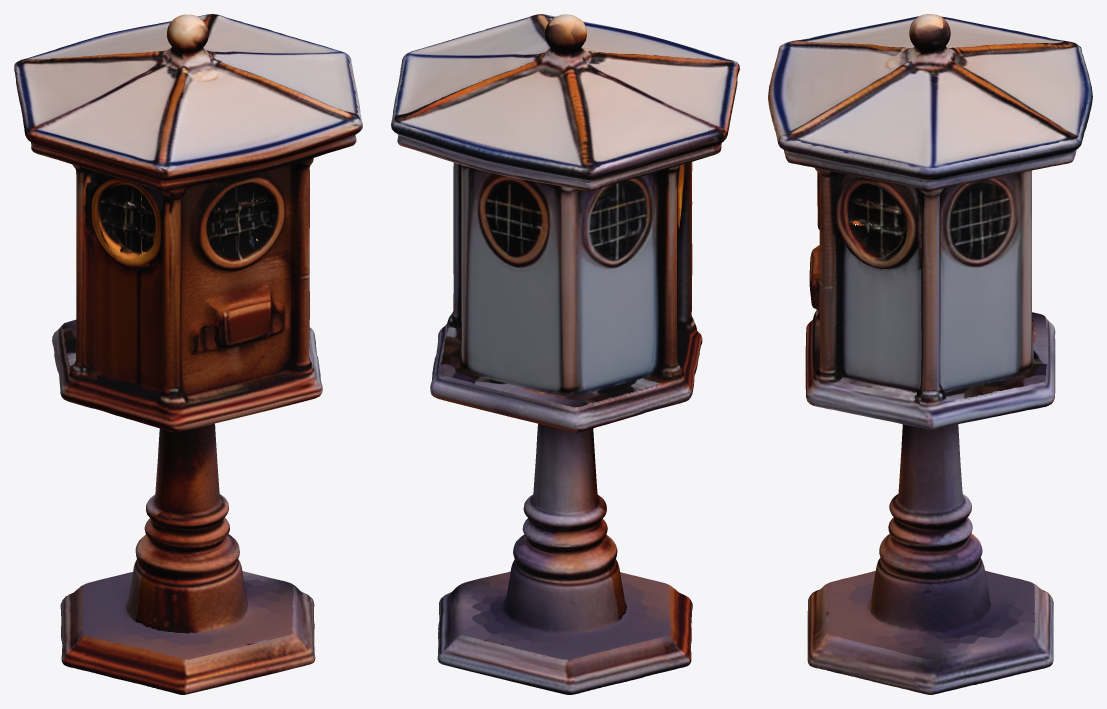
File: buzon_correo.glb
3 renders of one model, left to right at view 1: azimuth 30°, elevation 25°; view 2: azimuth 150°, elevation 25°; view 3: azimuth 270°, elevation 25°, orthographic.
Visible parts, largest first — view 1: tmpqipqemlx.ply; view 2: tmpqipqemlx.ply; view 3: tmpqipqemlx.ply.
Boxes of the visible parts, x1,y1,x2,y2 form: tmpqipqemlx.ply: (14, 14, 362, 694); tmpqipqemlx.ply: (391, 14, 739, 694); tmpqipqemlx.ply: (768, 14, 1092, 694).
Bounding box in the file's own units: 0.538 × 0.9932 × 0.4716.
Materials: 1 (1 with a texture image).
